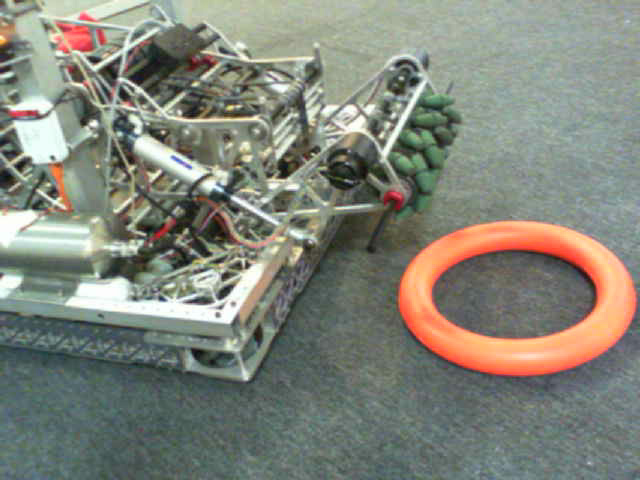Note: (399, 231, 640, 379)
Robot: (8, 8, 466, 366)
